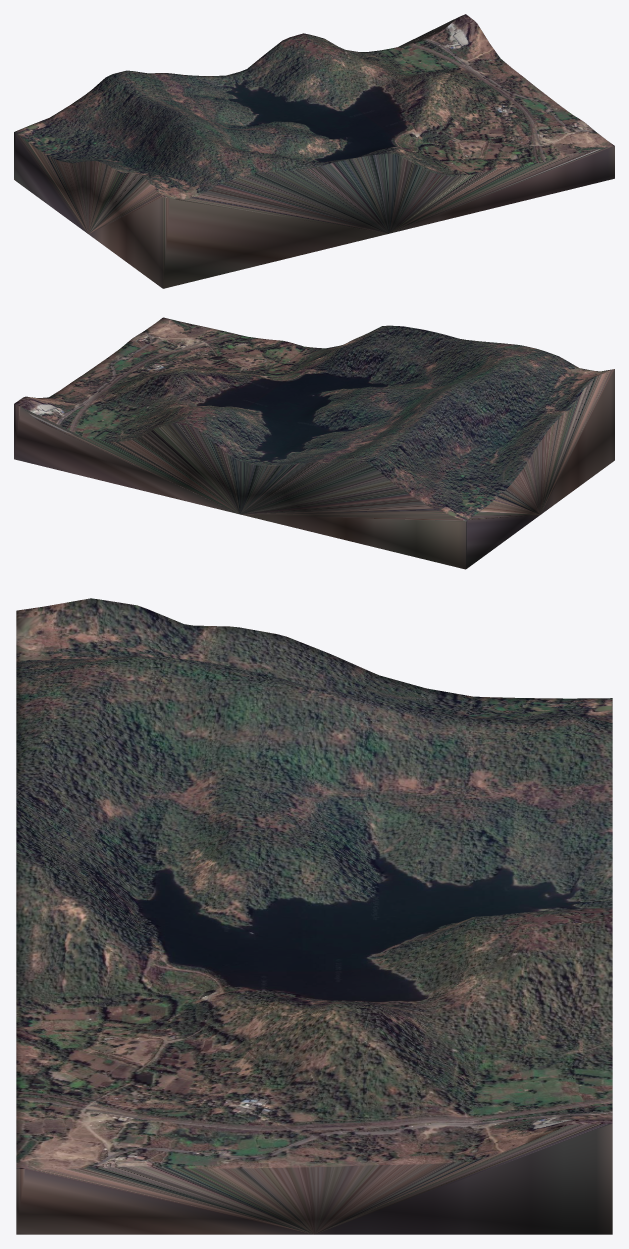
The model's file is usaran.glb.
3 views of the same model, one above another, from view 1: azimuth 30°, elevation 25°; view 2: azimuth 150°, elevation 25°; view 3: azimuth 270°, elevation 25° (orthographic). The views are drawn at different scales.
Parts seen in each view (by area): view 1: EXPORT_GOOGLE_SAT_WM; view 2: EXPORT_GOOGLE_SAT_WM; view 3: EXPORT_GOOGLE_SAT_WM.
Part boxes in pixels (<box>): EXPORT_GOOGLE_SAT_WM: <box>14,14,614,288</box>; EXPORT_GOOGLE_SAT_WM: <box>14,317,614,569</box>; EXPORT_GOOGLE_SAT_WM: <box>16,598,612,1234</box>.
Bounding box in the file's own units: 2140 × 470 × 1223.
Materials: 1 (1 with a texture image).
